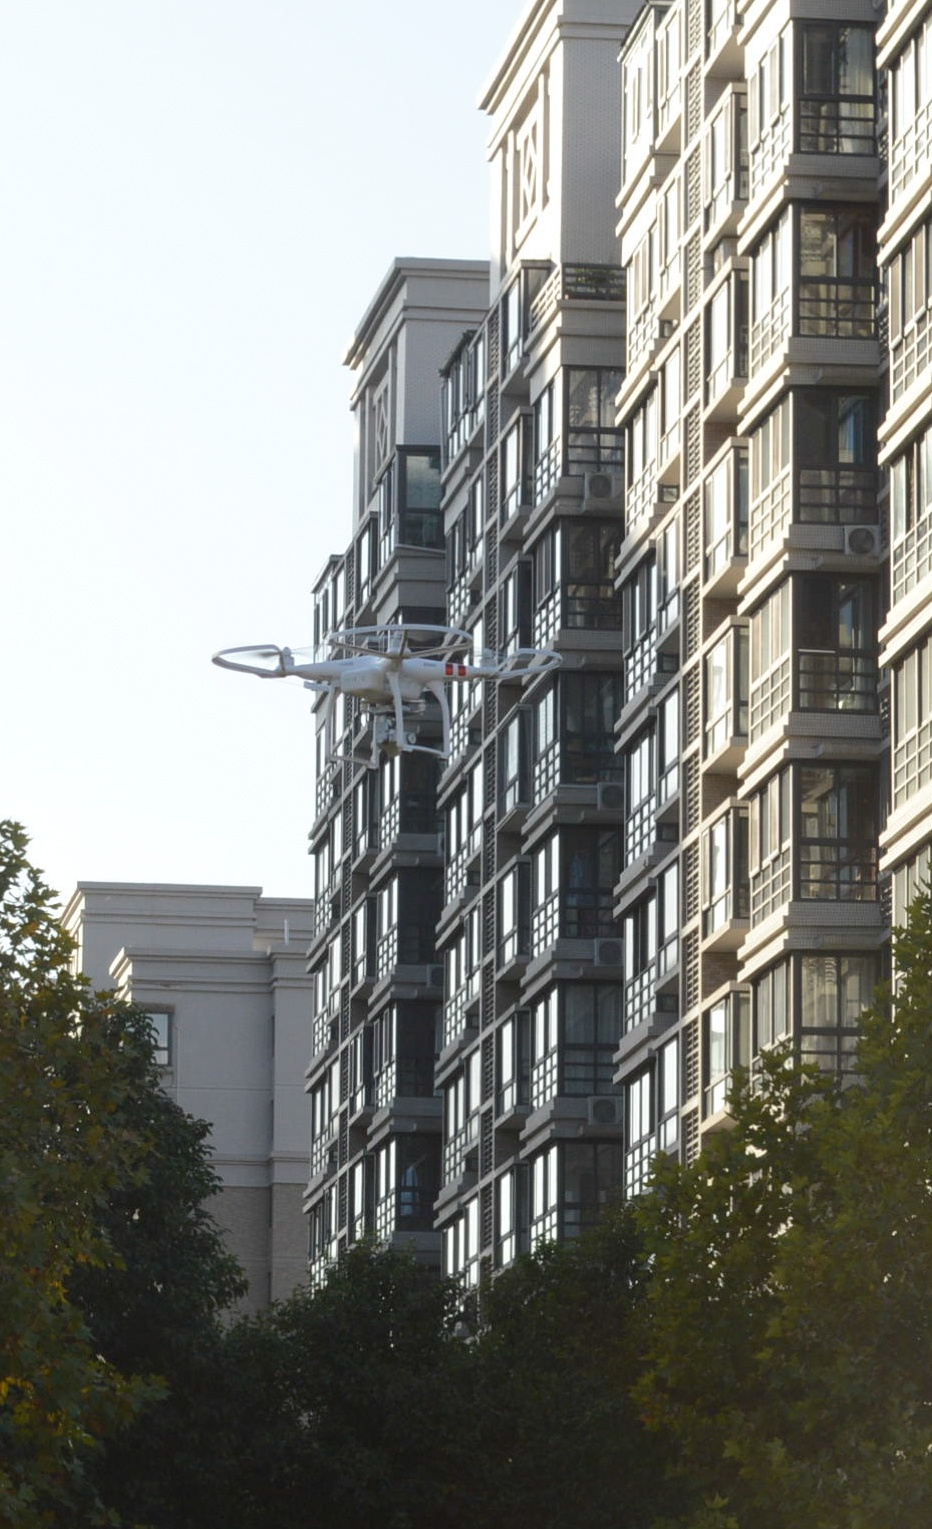DJI: (207, 626, 565, 764)
